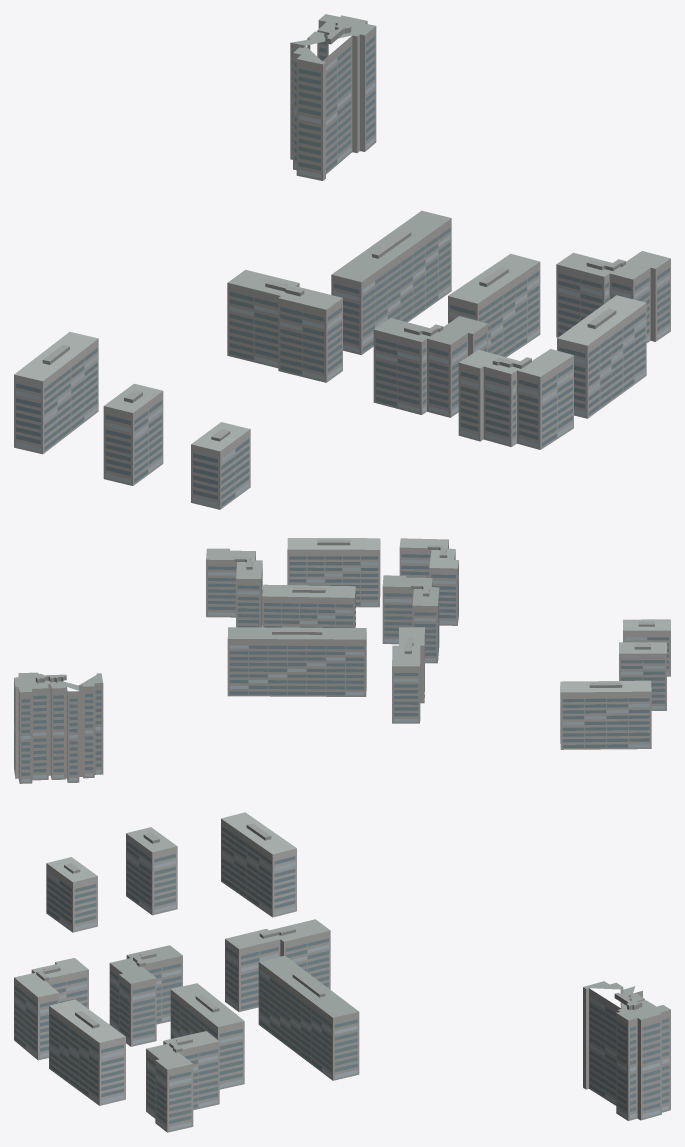
The model's file is apt-a13980010.glb.
The picture shows the model from 3 angles, top to bottom: view 1: azimuth 30°, elevation 25°; view 2: azimuth 150°, elevation 25°; view 3: azimuth 270°, elevation 25°; orthographic projection. The views are drawn at different scales.
Parts seen in each view (by area): view 1: apt-a13980010; view 2: apt-a13980010; view 3: apt-a13980010.
Part boxes in pixels (box(x1,y1,x2,y2)): apt-a13980010: box(14, 14, 670, 509); apt-a13980010: box(14, 538, 670, 783); apt-a13980010: box(14, 812, 670, 1132).
Bounding box in the file's own units: 251 × 47.81 × 271.
